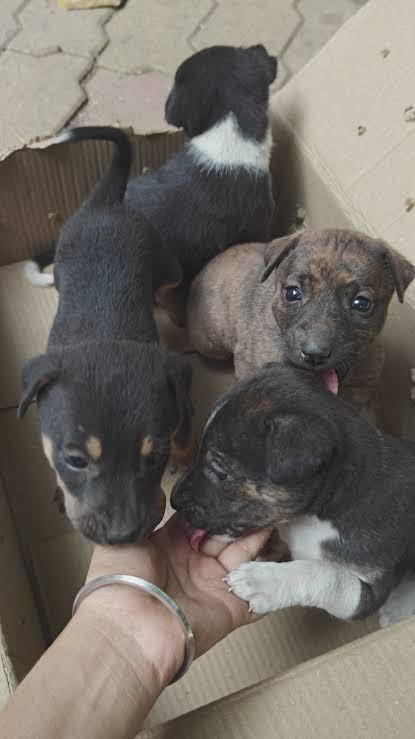puppy-dog: (14, 128, 196, 548), (170, 364, 415, 627), (186, 224, 415, 428), (126, 42, 280, 284)
